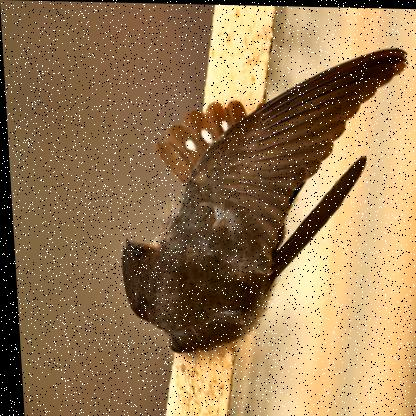Burung: (109, 39, 415, 356)
